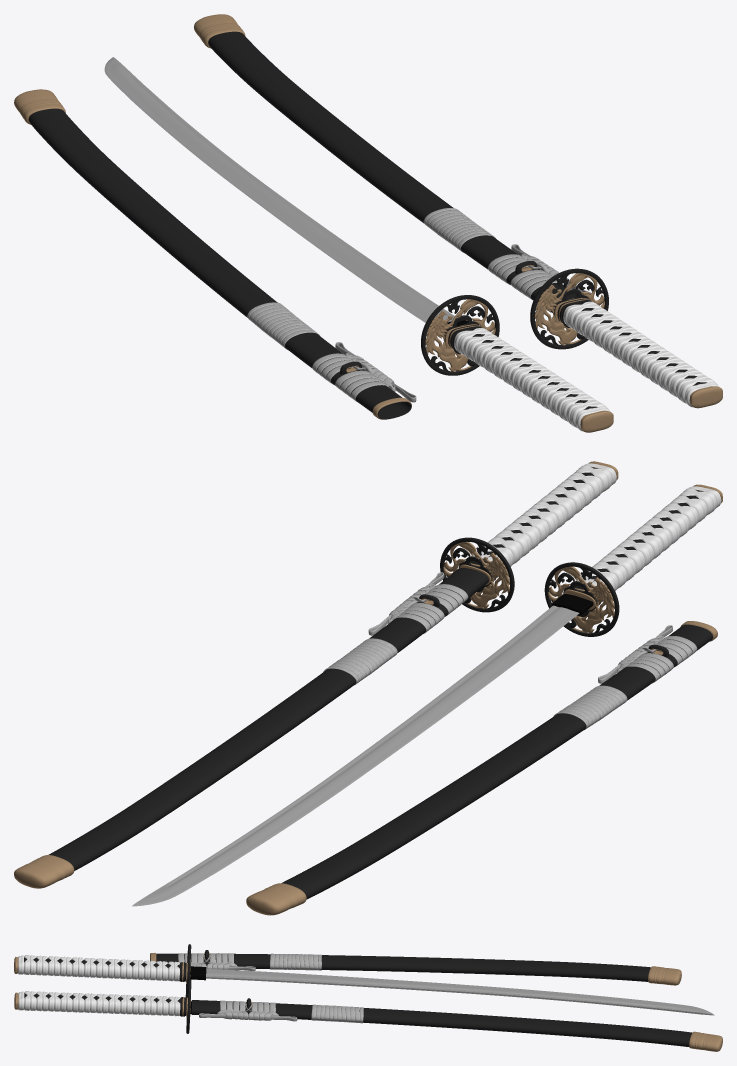
The model's file is Katana.fbx.
3 views of the same model, one above another, from view 1: azimuth 30°, elevation 25°; view 2: azimuth 150°, elevation 25°; view 3: azimuth 270°, elevation 25° (orthographic). The views are drawn at different scales.
Visible parts, largest first — view 1: Cube.002, Cube.006, Cube, Circle.008, Circle.004, Plane.006, Plane.004, Plane, Plane.001, Cube.003, Cube.007; view 2: Cube.006, Cube.002, Cube, Circle.004, Circle.008, Plane.006, Plane.004, Cube.007, Cube.003, Plane, Plane.001; view 3: Cube.006, Cube.002, Cube, Circle.004, Circle.008, Cube.003, Cube.007, Circle, Circle.005, Plane.003, Plane.001.
Part boxes in pixels (x1,y1,x2,y2): Cube.002: (28, 108, 416, 419); Cube.006: (208, 31, 591, 312); Cube: (104, 57, 456, 322); Circle.008: (563, 301, 719, 407); Circle.004: (454, 328, 610, 431); Plane.006: (425, 299, 495, 371); Plane.004: (535, 273, 604, 345); Plane: (421, 295, 499, 375); Plane.001: (530, 268, 608, 349); Cube.003: (14, 89, 65, 124); Cube.007: (194, 14, 245, 48); Cube.006: (48, 568, 488, 870); Cube.002: (281, 624, 712, 899); Cube: (132, 605, 579, 906); Circle.004: (575, 486, 721, 602); Circle.008: (470, 463, 616, 577); Plane.006: (548, 566, 614, 633); Plane.004: (443, 541, 509, 608); Cube.007: (14, 855, 74, 888); Cube.003: (246, 883, 306, 915); Plane: (544, 562, 619, 636); Plane.001: (440, 537, 514, 612); Cube.006: (191, 998, 691, 1046); Cube.002: (150, 950, 650, 981); Cube: (206, 968, 714, 1015); Circle.004: (18, 955, 179, 981); Circle.008: (18, 991, 180, 1016); Cube.003: (648, 966, 681, 985); Cube.007: (689, 1031, 722, 1051); Circle: (24, 957, 186, 980); Circle.005: (24, 993, 186, 1014); Plane.003: (190, 966, 206, 980); Plane.001: (186, 979, 191, 1033).
Size of the model in its own units: 184 by 46.07 by 591.
